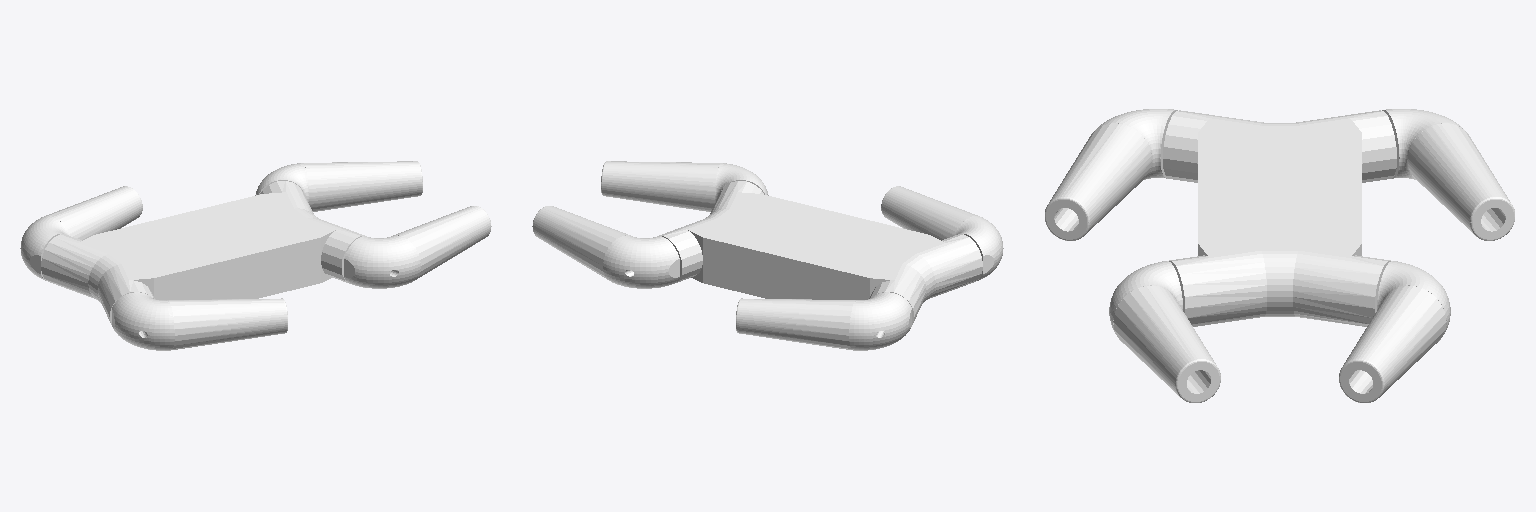
URDF robot description (19_degree):
<?xml version="1.0" encoding="utf-8"?>
<!-- This URDF was automatically created by SolidWorks to URDF Exporter! Originally created by [author] ([email redacted]) 
     Commit Version: 1.5.1-0-g916b5db  Build Version: 1.5.7152.31018
     For more information, please see http://wiki.ros.org/sw_urdf_exporter -->
<robot
  name="19_degree">
  <link
    name="base_link">
    <inertial>
      <origin
        xyz="5.5511E-17 6.3406E-08 -6.9389E-18"
        rpy="0 0 0" />
      <mass
        value="2.803" />
      <inertia
        ixx="0.009795689"
        ixy="7.9078E-19"
        ixz="-8.2833E-11"
        iyy="0.042502743"
        iyz="-6.9873E-19"
        izz="0.049927898" />
    </inertial>
    <visual>
      <origin
        xyz="0 0 0"
        rpy="0 0 0" />
      <geometry>
        <mesh
          filename="package://19_degree/meshes/base_link.STL" />
      </geometry>
      <material
        name="">
        <color
          rgba="1 1 1 1" />
      </material>
    </visual>
    <collision>
      <origin
        xyz="0 0 0"
        rpy="0 0 0" />
      <geometry>
        <mesh
          filename="package://19_degree/meshes/base_link.STL" />
      </geometry>
    </collision>
  </link>
  <link
    name="left_fromt_link">
    <inertial>
      <origin
        xyz="-9.6075E-08 0.073965 -0.012939"
        rpy="0 0 0" />
      <mass
        value="0.0919" />
      <inertia
        ixx="0.000326262"
        ixy="3.2867E-10"
        ixz="5.8009E-10"
        iyy="0.00006471"
        iyz="-0.000065374"
        izz="0.000309217" />
    </inertial>
    <visual>
      <origin
        xyz="0 0 0"
        rpy="0 0 0" />
      <geometry>
        <mesh
          filename="package://19_degree/meshes/left_fromt_link.STL" />
      </geometry>
      <material
        name="">
        <color
          rgba="1 1 1 1" />
      </material>
    </visual>
    <collision>
      <origin
        xyz="0 0 0"
        rpy="0 0 0" />
      <geometry>
        <mesh
          filename="package://19_degree/meshes/left_fromt_link.STL" />
      </geometry>
    </collision>
  </link>
  <joint
    name="left_front_leg"
    type="continuous">
    <origin
      xyz="0.16353 0.097388 0"
      rpy="1.5708 1.5708 0" />
    <parent
      link="base_link" />
    <child
      link="left_fromt_link" />
    <axis
      xyz="0 0.32557 -0.94552" />
    <limit
      effort="5"
      velocity="487" />
  </joint>
  <link
    name="right_front_link">
    <inertial>
      <origin
        xyz="9.6075E-08 0.073965 0.012939"
        rpy="0 0 0" />
      <mass
        value="0.0919" />
      <inertia
        ixx="0.000326262"
        ixy="-3.2867E-10"
        ixz="5.8009E-10"
        iyy="0.00006471"
        iyz="0.000065374"
        izz="0.000309217" />
    </inertial>
    <visual>
      <origin
        xyz="0 0 0"
        rpy="0 0 0" />
      <geometry>
        <mesh
          filename="package://19_degree/meshes/right_front_link.STL" />
      </geometry>
      <material
        name="">
        <color
          rgba="1 1 1 1" />
      </material>
    </visual>
    <collision>
      <origin
        xyz="0 0 0"
        rpy="0 0 0" />
      <geometry>
        <mesh
          filename="package://19_degree/meshes/right_front_link.STL" />
      </geometry>
    </collision>
  </link>
  <joint
    name="right_front_leg"
    type="continuous">
    <origin
      xyz="0.16353 -0.097388 0"
      rpy="1.5708 1.5708 0" />
    <parent
      link="base_link" />
    <child
      link="right_front_link" />
    <axis
      xyz="0 0.32557 0.94552" />
    <limit
      effort="5"
      velocity="487" />
  </joint>
  <link
    name="right_back_link">
    <inertial>
      <origin
        xyz="7.836E-08 0.065724 0.036315"
        rpy="0 0 0" />
      <mass
        value="0.0919" />
      <inertia
        ixx="0.000326262"
        ixy="-3.5012E-10"
        ixz="2.7313E-10"
        iyy="0.000050379"
        iyz="-0.000023751"
        izz="0.000323549" />
    </inertial>
    <visual>
      <origin
        xyz="0 0 0"
        rpy="0 0 0" />
      <geometry>
        <mesh
          filename="package://19_degree/meshes/right_back_link.STL" />
      </geometry>
      <material
        name="">
        <color
          rgba="1 1 1 1" />
      </material>
    </visual>
    <collision>
      <origin
        xyz="0 0 0"
        rpy="0 0 0" />
      <geometry>
        <mesh
          filename="package://19_degree/meshes/right_back_link.STL" />
      </geometry>
    </collision>
  </link>
  <joint
    name="right_back_leg"
    type="continuous">
    <origin
      xyz="-0.16353 -0.097388 0"
      rpy="1.9024 1.5708 0" />
    <parent
      link="base_link" />
    <child
      link="right_back_link" />
    <axis
      xyz="0 0 1" />
    <limit
      effort="5"
      velocity="487" />
  </joint>
  <link
    name="left_back_link">
    <inertial>
      <origin
        xyz="-7.836E-08 0.05032 -0.055734"
        rpy="0 0 0" />
      <mass
        value="0.0919" />
      <inertia
        ixx="0.000326262"
        ixy="4.1997E-10"
        ixz="1.4426E-10"
        iyy="0.000093956"
        iyz="0.000102807"
        izz="0.000279971" />
    </inertial>
    <visual>
      <origin
        xyz="0 0 0"
        rpy="0 0 0" />
      <geometry>
        <mesh
          filename="package://19_degree/meshes/left_back_link.STL" />
      </geometry>
      <material
        name="">
        <color
          rgba="1 1 1 1" />
      </material>
    </visual>
    <collision>
      <origin
        xyz="0 0 0"
        rpy="0 0 0" />
      <geometry>
        <mesh
          filename="package://19_degree/meshes/left_back_link.STL" />
      </geometry>
    </collision>
  </link>
  <joint
    name="left_back_leg"
    type="continuous">
    <origin
      xyz="-0.16353 0.097388 0"
      rpy="1.5708 1.5708 0" />
    <parent
      link="base_link" />
    <child
      link="left_back_link" />
    <axis
      xyz="0 -0.32557 -0.94552" />
    <limit
      effort="5"
      velocity="487" />
  </joint>
</robot>

--- Render facts (derived) ---
3 views of the same robot in one strip: view 1: azimuth 30°, elevation 25°; view 2: azimuth 150°, elevation 25°; view 3: azimuth 270°, elevation 25° (orthographic).
Robot: 19_degree — 5 links, 4 joints (4 continuous); root link base_link; default pose: every joint at zero.
Links seen in each view (by area): view 1: base_link, right_back_link, right_front_link, left_fromt_link, left_back_link; view 2: base_link, left_back_link, left_fromt_link, right_front_link, right_back_link; view 3: base_link, right_back_link, left_back_link, left_fromt_link, right_front_link.
Boxes of the visible links, x1,y1,x2,y2 form: base_link: [41, 181, 364, 324]; right_back_link: [112, 292, 287, 350]; right_front_link: [344, 206, 491, 288]; left_fromt_link: [255, 161, 422, 211]; left_back_link: [20, 186, 142, 280]; base_link: [659, 181, 982, 324]; left_back_link: [736, 292, 911, 350]; left_fromt_link: [532, 206, 679, 288]; right_front_link: [601, 161, 768, 211]; right_back_link: [881, 186, 1003, 280]; base_link: [1163, 110, 1396, 326]; right_back_link: [1045, 109, 1177, 240]; left_back_link: [1382, 109, 1514, 240]; left_fromt_link: [1339, 261, 1450, 402]; right_front_link: [1109, 261, 1220, 402].
Bounding box of the posed robot: 0.5582 × 0.4332 × 0.064 m (x, y, z).
5 mesh visuals loaded from 5 distinct referenced files (5 binary STL).